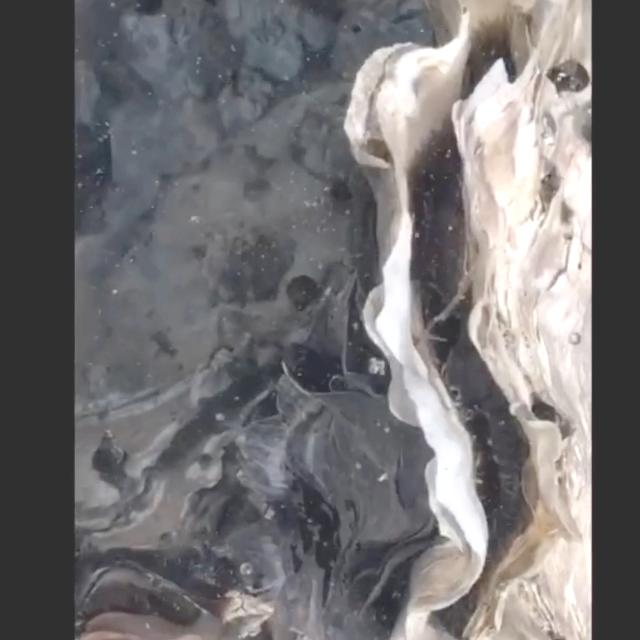Oyster-Open: (343, 0, 597, 640), (70, 77, 372, 537)
